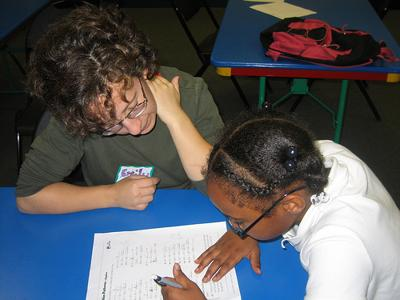person: (158, 110, 400, 298)
